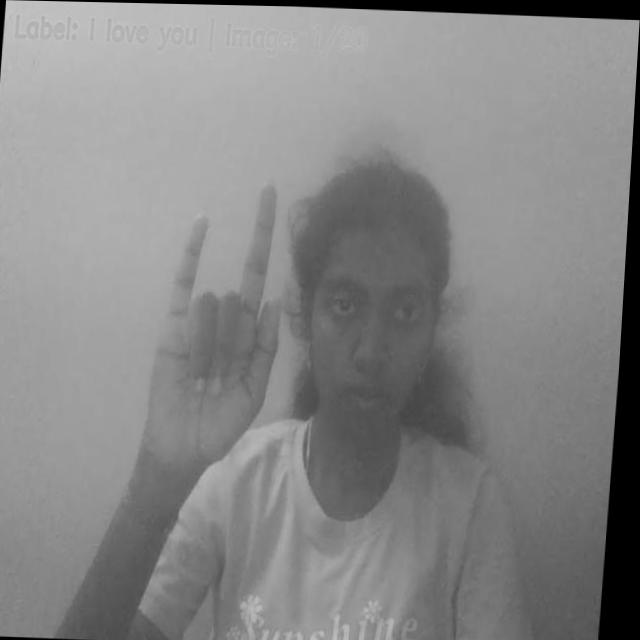I love you: (140, 171, 299, 480)
